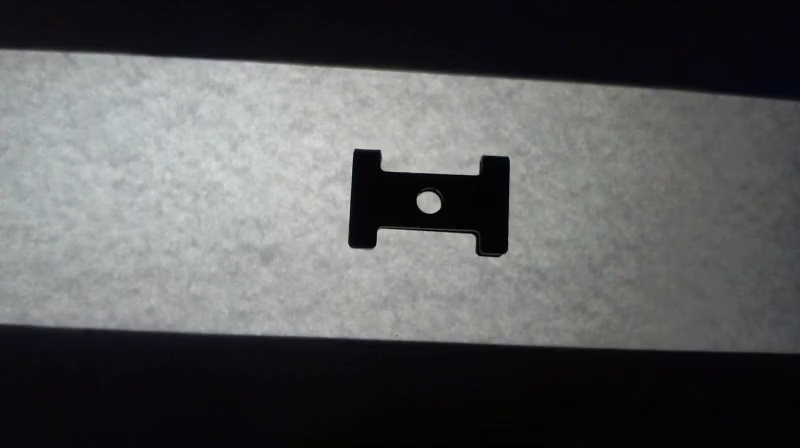O002: (346, 144, 514, 260)
